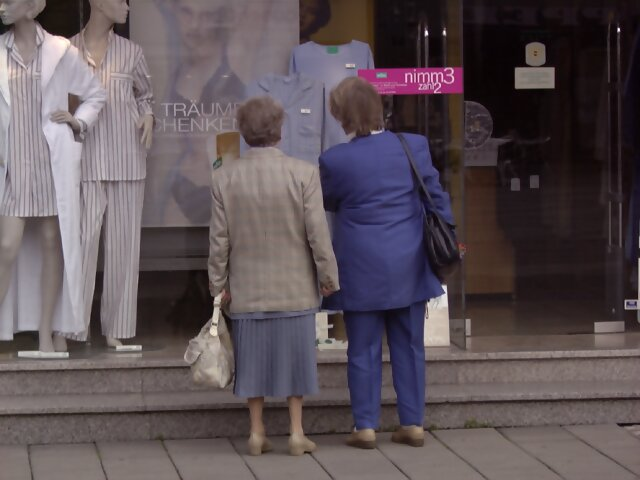person: (314, 74, 452, 445), (208, 93, 329, 459)
